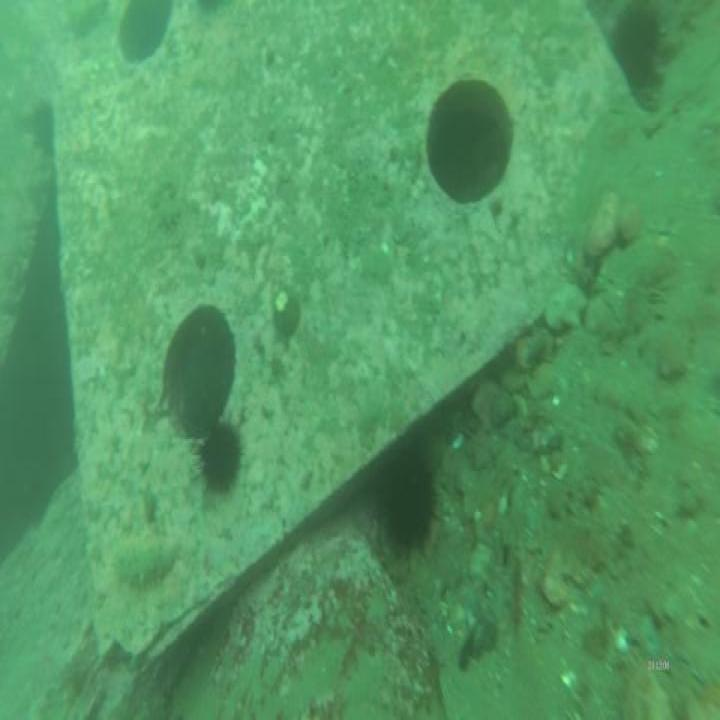echinus: (363, 437, 447, 571), (190, 411, 249, 503)
holothurian: (114, 535, 181, 599)
